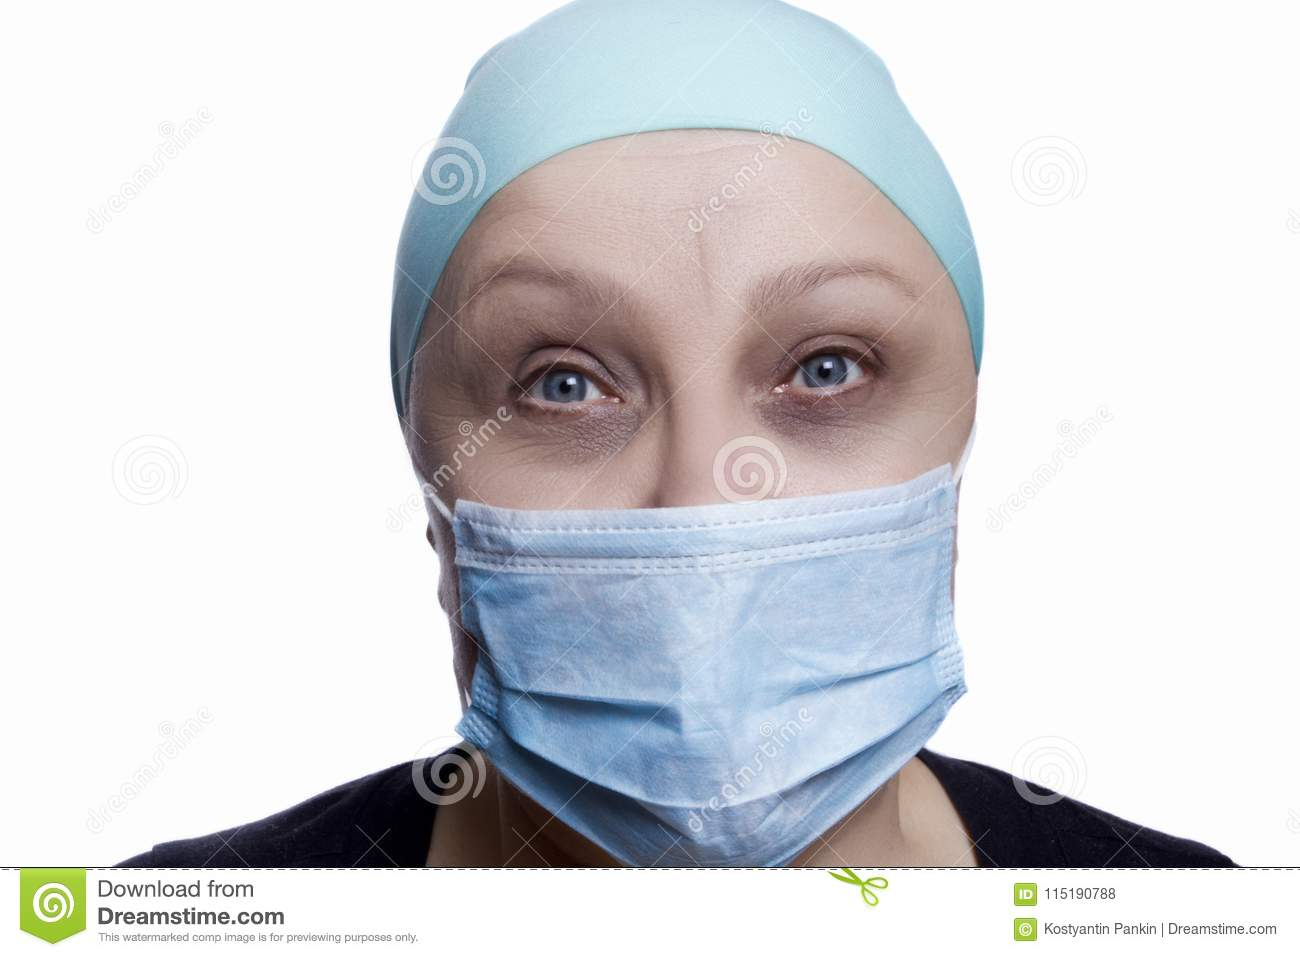mask: (450, 491, 986, 824)
